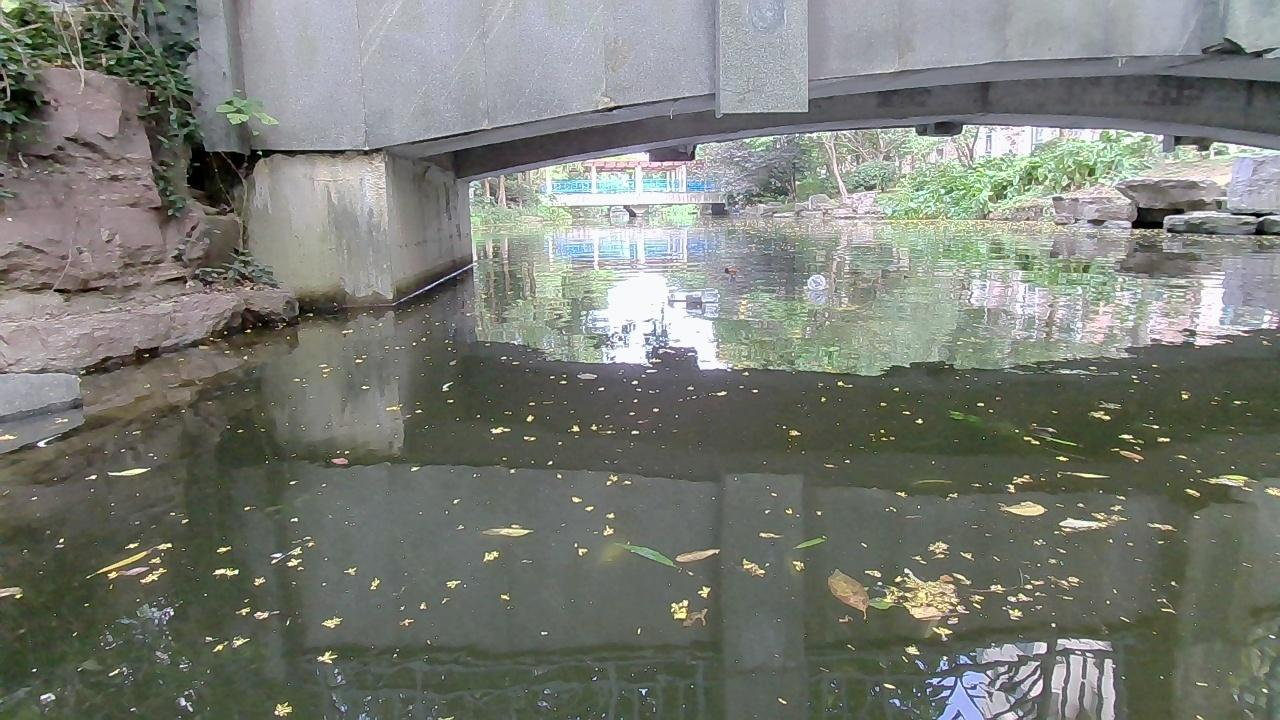bottle: (665, 286, 722, 307), (805, 275, 825, 289), (722, 265, 736, 273)
